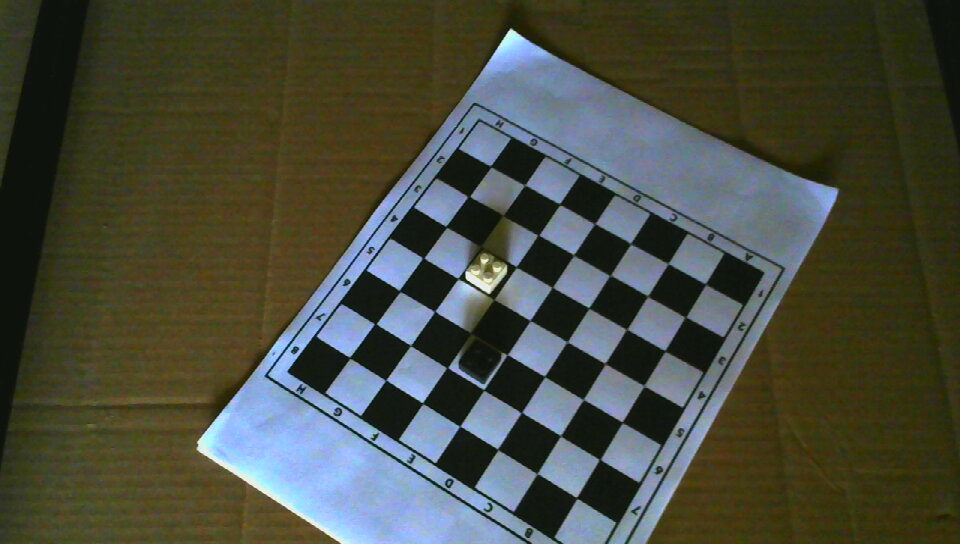bp: (458, 339, 501, 384)
wp: (465, 251, 507, 293)
